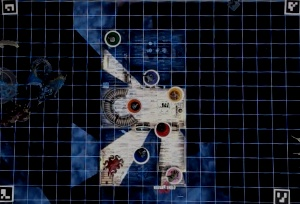blue: (134, 145, 150, 165)
green: (103, 28, 121, 49)
orange: (127, 96, 144, 114)
pink: (166, 165, 183, 184)
red: (153, 121, 171, 139)
violet: (142, 68, 161, 86)
yellow: (166, 86, 184, 101)
